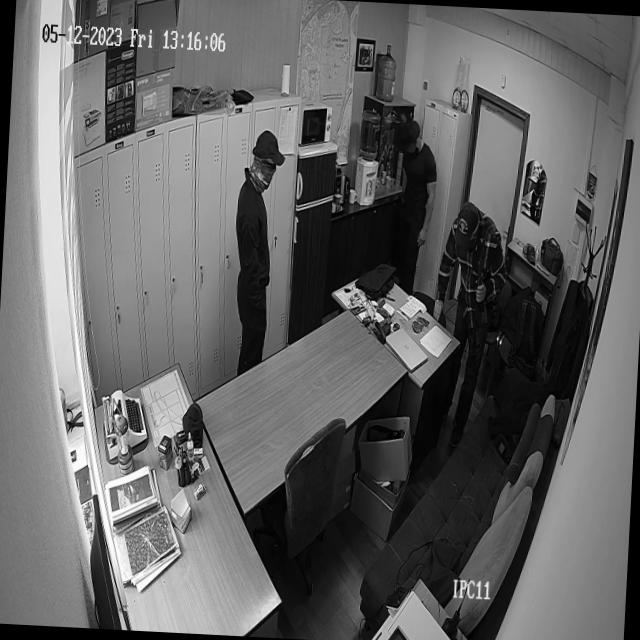gun: (469, 252, 489, 368)
person: (231, 128, 284, 382), (394, 112, 440, 278)
person with a gun: (424, 206, 508, 456)
